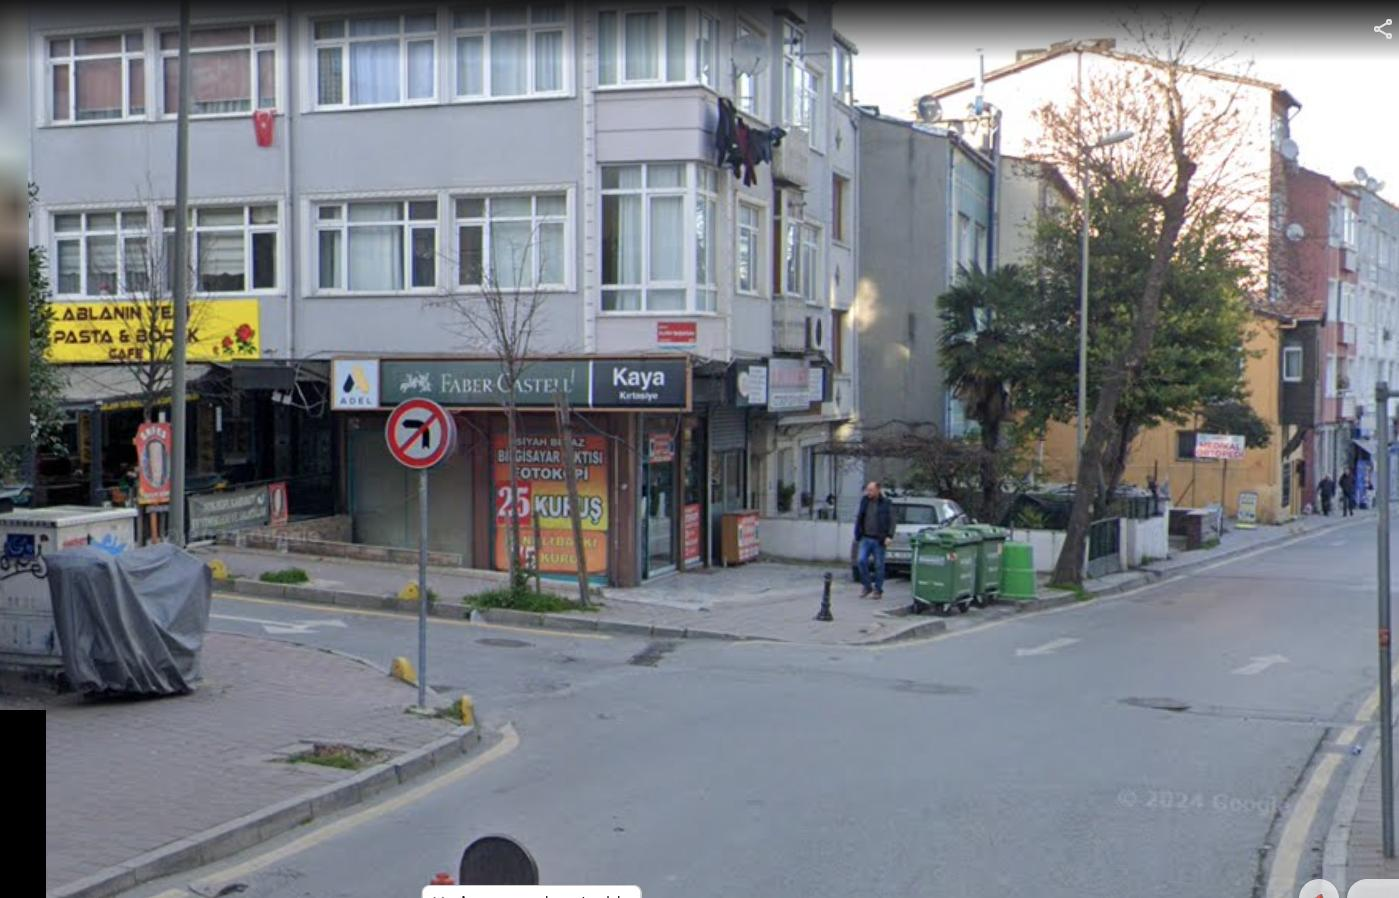leftturnsareforbidden: (386, 400, 450, 465)
